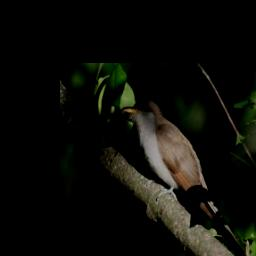Cuckoo: (121, 98, 252, 256)
